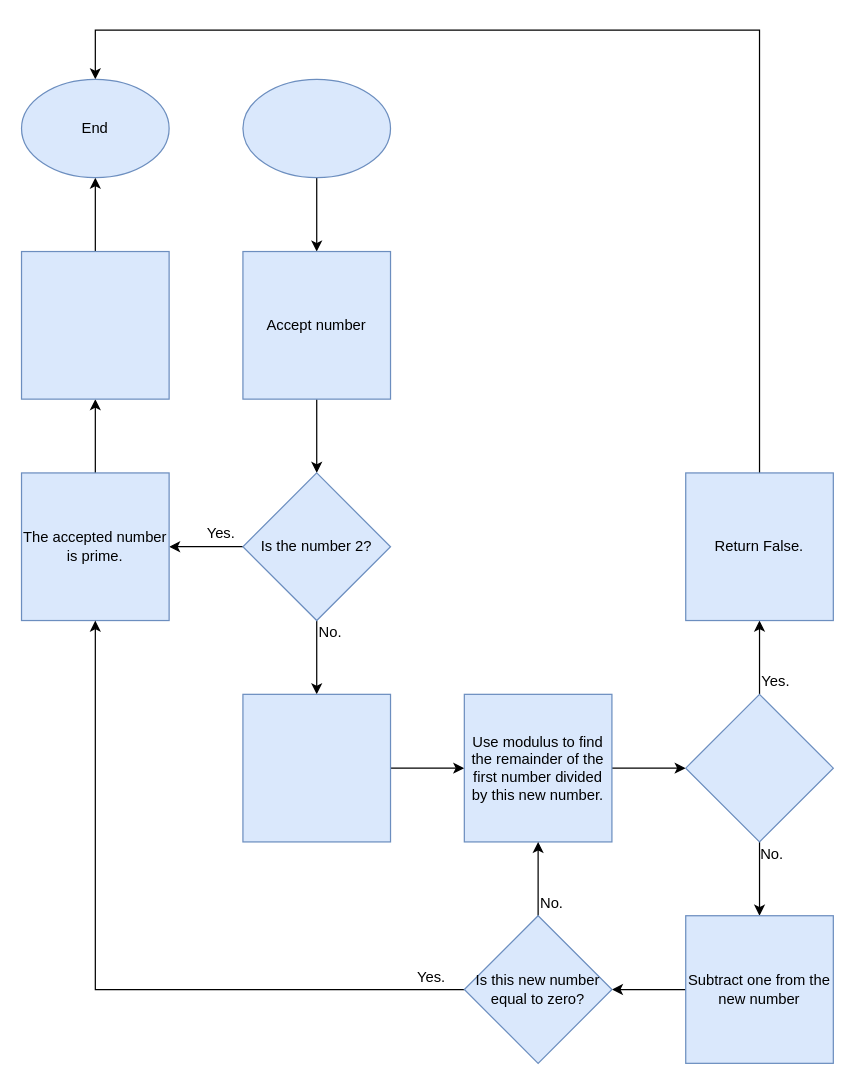
The diagram is 855 pixels wide and 1085 high, and some of its shapes have lost their labels. Each missing label, with the centre of its shape:
"Is the remainder zero?" goes at [758,767].
"Make a new number that is equal to the first number minus one." goes at [316,767].
"Return True." goes at [94,324].
"Start" goes at [316,128].
